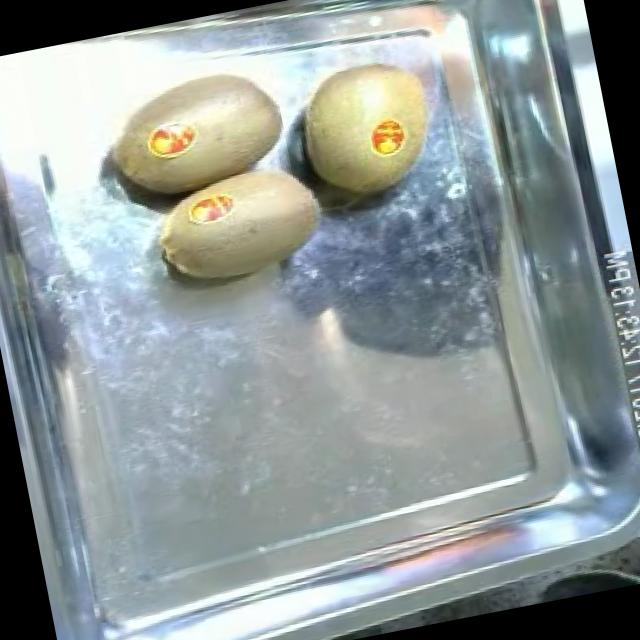Fruit: (136, 152, 337, 308), (278, 42, 448, 215)
